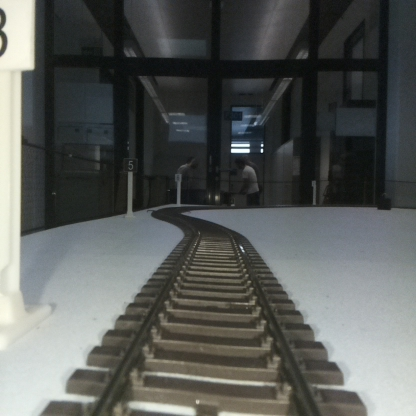black-info-5: (124, 158, 137, 218)
